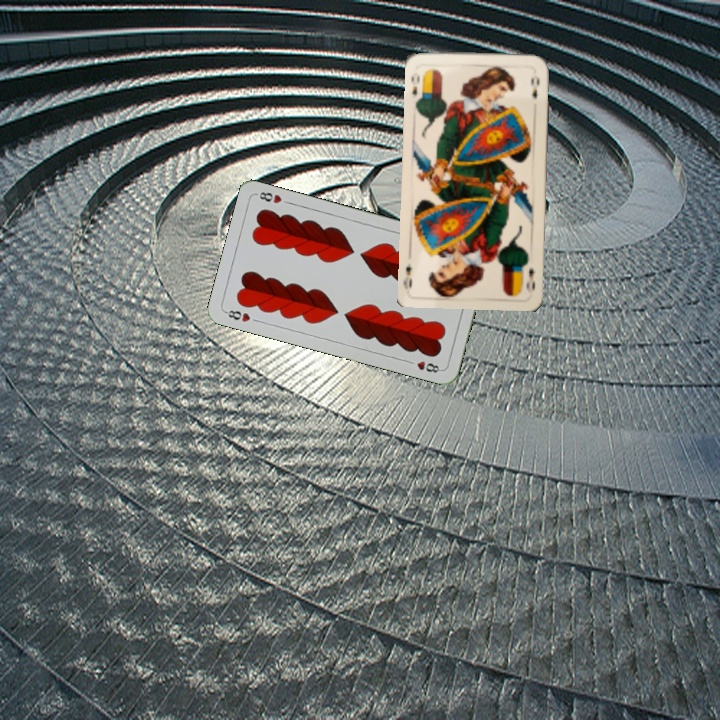EO: (522, 264, 537, 297), (407, 71, 422, 99)
H8: (221, 306, 253, 325)
